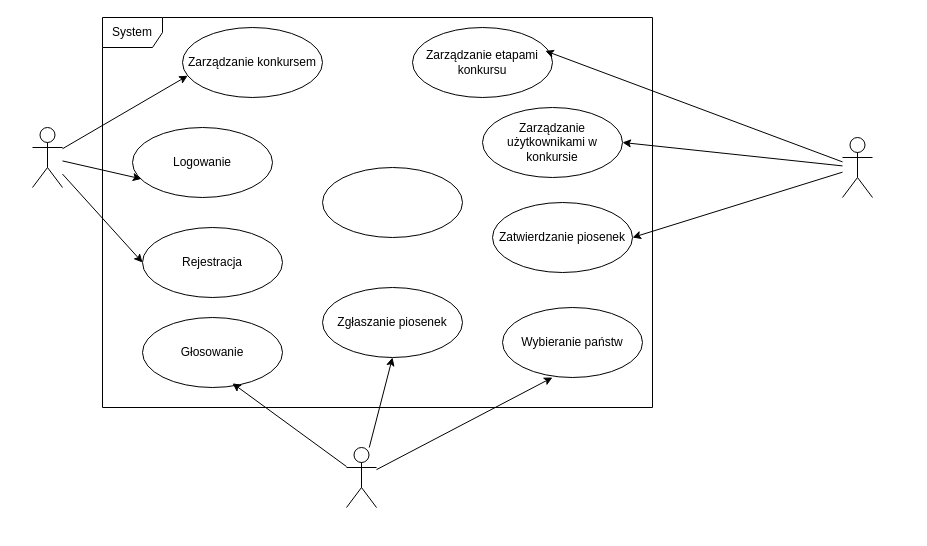
This 927x546 diagram has some shape labels left out. Here are the shapes that lost their labels. From the top down, the centre of each, then its label:
[47,157]: Użytkownik
[857,167]: Właściciel konkursu
[392,202]: Wysyłanie powiadomień
[361,477]: Uczestnik konkursu
